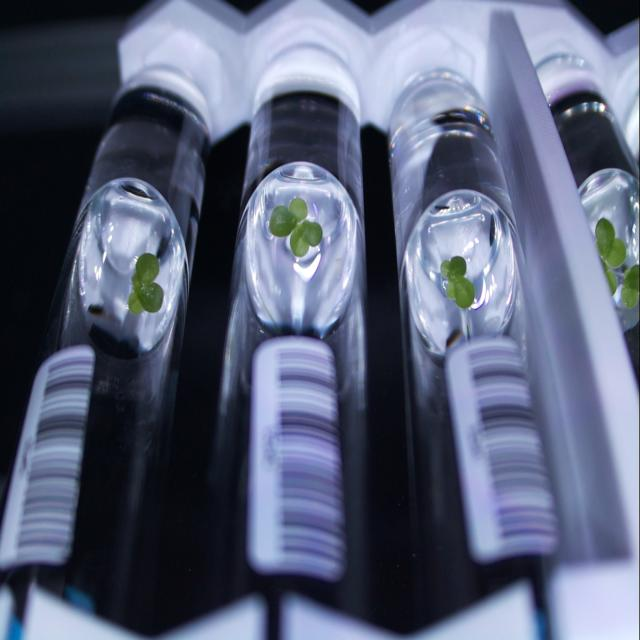Lemna-Gibba: (269, 197, 322, 257), (595, 218, 626, 295), (128, 254, 164, 315), (440, 255, 475, 309), (595, 218, 626, 268), (621, 265, 640, 309)
